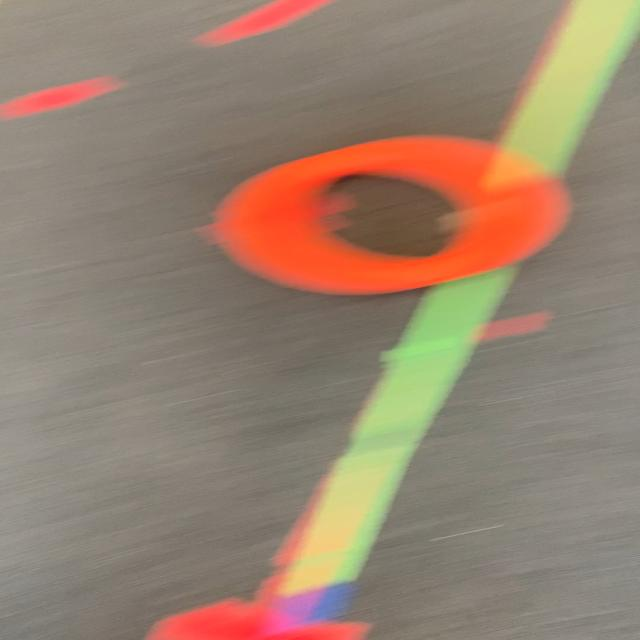notes: (210, 135, 566, 291)
